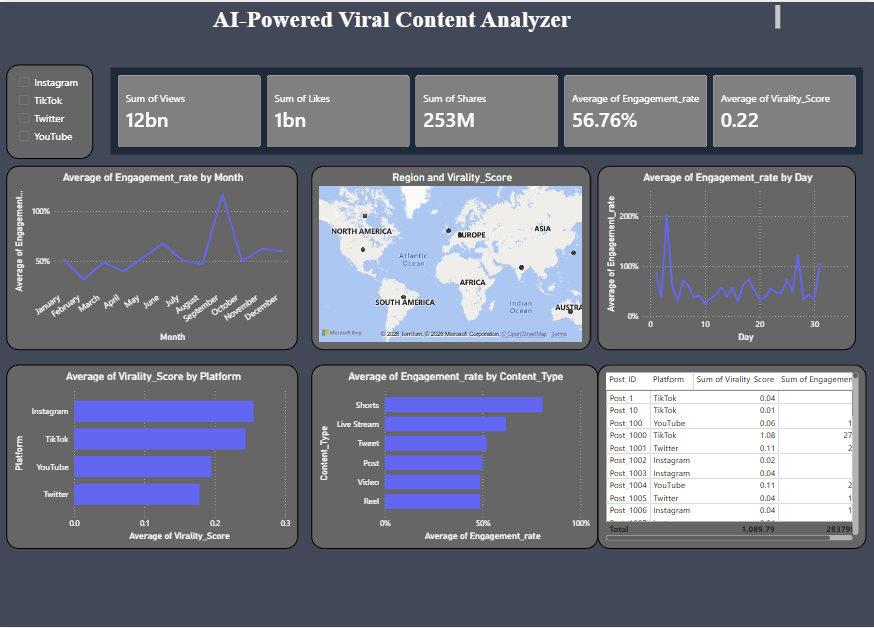

Layout of this report page (visuals, bound fields, positions):
{"tool":"powerbi","page":{"name":"Page 1","canvas":[1400,1000],"ordinal":0},"visuals":[{"type":"textbox","box":[9.6,0,1243.2,57.6],"z":0},{"type":"cardVisual","fields":{"Data":["Sum(final_cleaned_data.Views)","Sum(final_cleaned_data.Likes)","Sum(final_cleaned_data.Shares)","Avg(final_cleaned_data.Engagement_rate)","Avg(final_cleaned_data.Virality_Score)"]},"box":[172.6,100.5,1214.8,149.1],"z":1000},{"type":"lineChart","fields":{"Y":["Avg(final_cleaned_data.Engagement_rate)"],"Category":["final_cleaned_data.Post_Date.Variation.Date Hierarchy.Month"]},"box":[9.6,262.1,466.6,295],"z":1001},{"type":"clusteredBarChart","fields":{"Category":["final_cleaned_data.Platform"],"Y":["Avg(final_cleaned_data.Virality_Score)"]},"box":[10.1,579.8,467.5,294.9],"z":1002},{"type":"clusteredBarChart","fields":{"Category":["final_cleaned_data.Content_Type"],"Y":["Avg(final_cleaned_data.Engagement_rate)"]},"box":[497.7,579.8,459.1,294.9],"z":1003},{"type":"map","fields":{"Category":["final_cleaned_data.Region"],"Series":["final_cleaned_data.Virality_Score"]},"box":[497.7,261.4,447.4,294.9],"z":1004},{"type":"lineChart","fields":{"Category":["final_cleaned_data.Post_Date.Variation.Date Hierarchy.Day"],"Y":["Avg(final_cleaned_data.Engagement_rate)"]},"box":[956.8,261.4,413.9,294.9],"z":1005},{"type":"tableEx","fields":{"Values":["final_cleaned_data.Post_ID","final_cleaned_data.Platform","Sum(final_cleaned_data.Virality_Score)","Sum(final_cleaned_data.Engagement_rate)"]},"box":[956.8,579.8,430.6,294.9],"z":1006},{"type":"slicer","fields":{"Values":["final_cleaned_data.Platform"]},"box":[10.1,100.5,139.1,150.8],"z":1007}]}

Visuals, with their boxes in screenshot pixels (x1, y1, x2, y2), scaled from the page's 1400x1000 canvas onto the 874x628 screenshot:
textbox: bbox=[6, 0, 782, 36]
cardVisual - Sum(final_cleaned_data.Views) x Sum(final_cleaned_data.Likes): bbox=[108, 63, 866, 157]
lineChart - Avg(final_cleaned_data.Engagement_rate) x final_cleaned_data.Post_Date.Variation.Date Hierarchy.Month: bbox=[6, 165, 297, 350]
clusteredBarChart - final_cleaned_data.Platform x Avg(final_cleaned_data.Virality_Score): bbox=[6, 364, 298, 549]
clusteredBarChart - final_cleaned_data.Content_Type x Avg(final_cleaned_data.Engagement_rate): bbox=[311, 364, 597, 549]
map - final_cleaned_data.Region x final_cleaned_data.Virality_Score: bbox=[311, 164, 590, 349]
lineChart - final_cleaned_data.Post_Date.Variation.Date Hierarchy.Day x Avg(final_cleaned_data.Engagement_rate): bbox=[597, 164, 856, 349]
tableEx - final_cleaned_data.Post_ID x final_cleaned_data.Platform: bbox=[597, 364, 866, 549]
slicer - final_cleaned_data.Platform: bbox=[6, 63, 93, 158]
